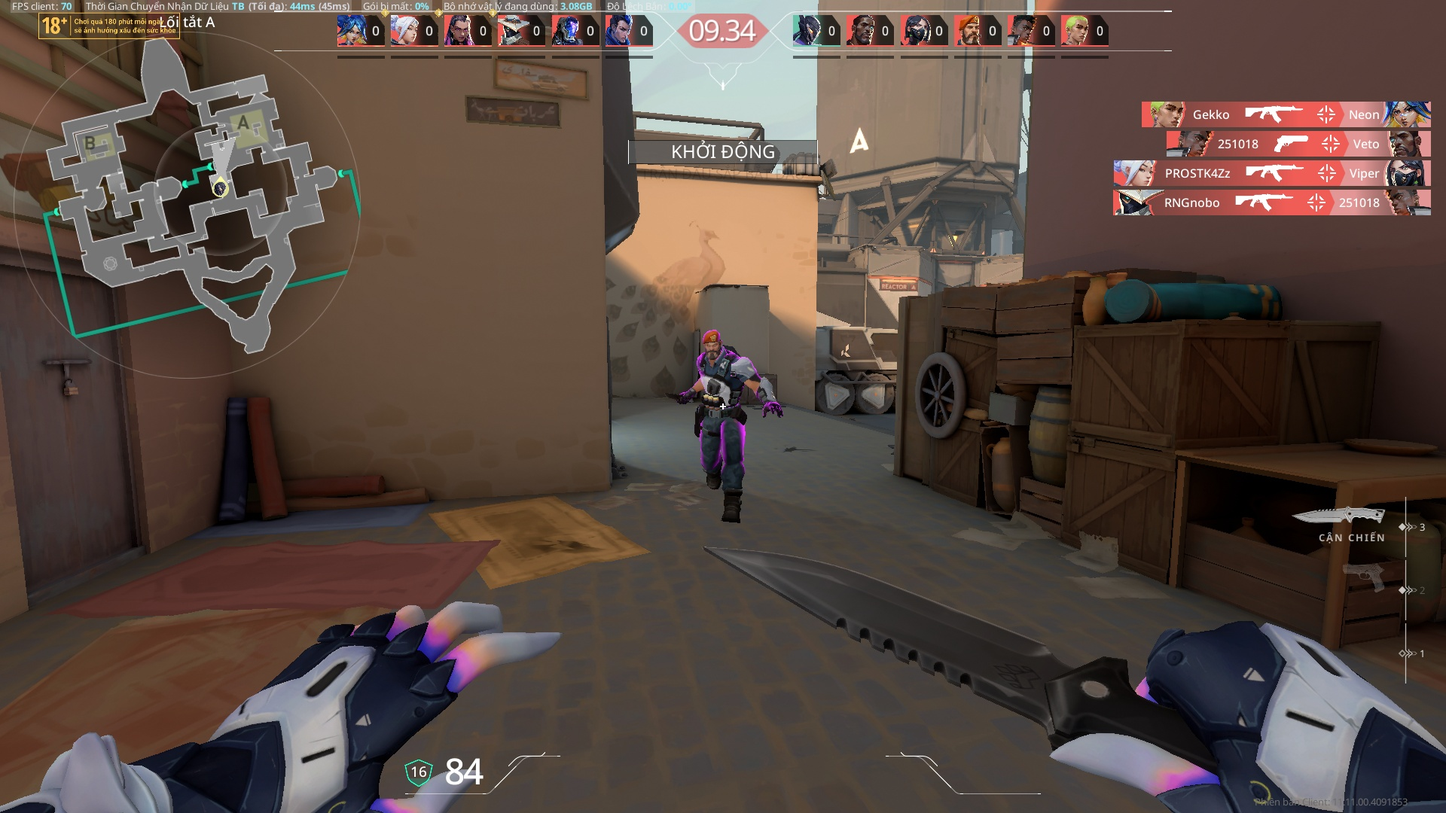body: (696, 353, 755, 409)
head: (704, 327, 725, 355)
